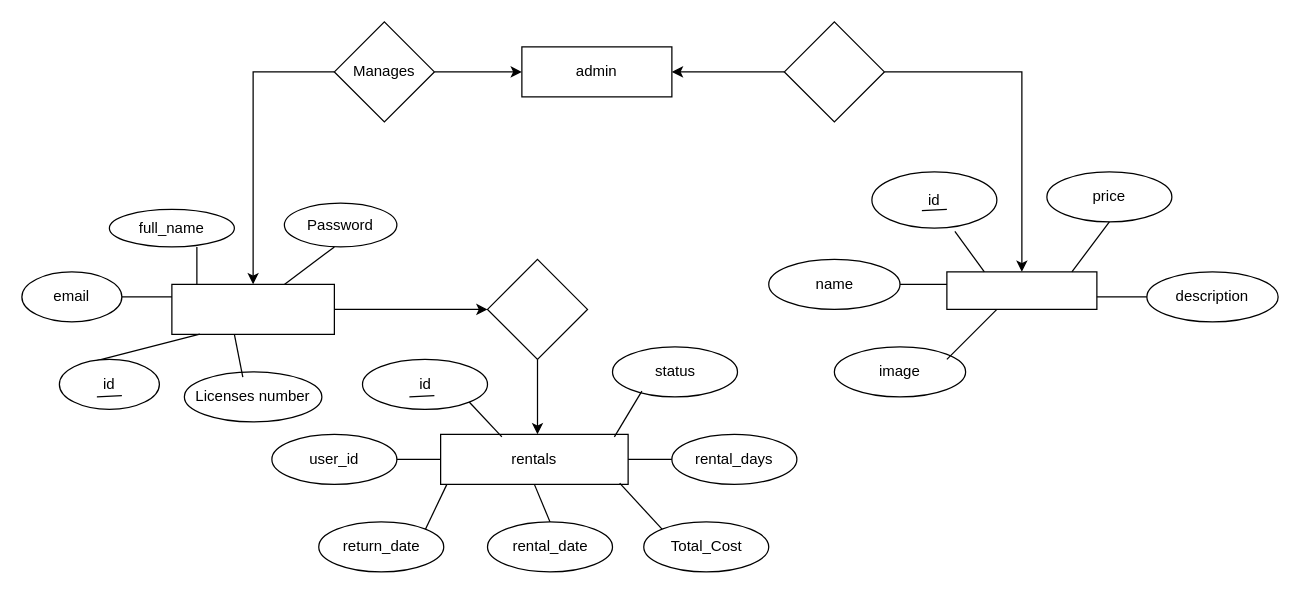
Image size: 1300x594. Some labels were removed from this diagram. Each missing label, with the centre of its shape:
adds: the point at 833,71
Bikes: the point at 1021,290
performs: the point at 537,308
Users: the point at 252,308
